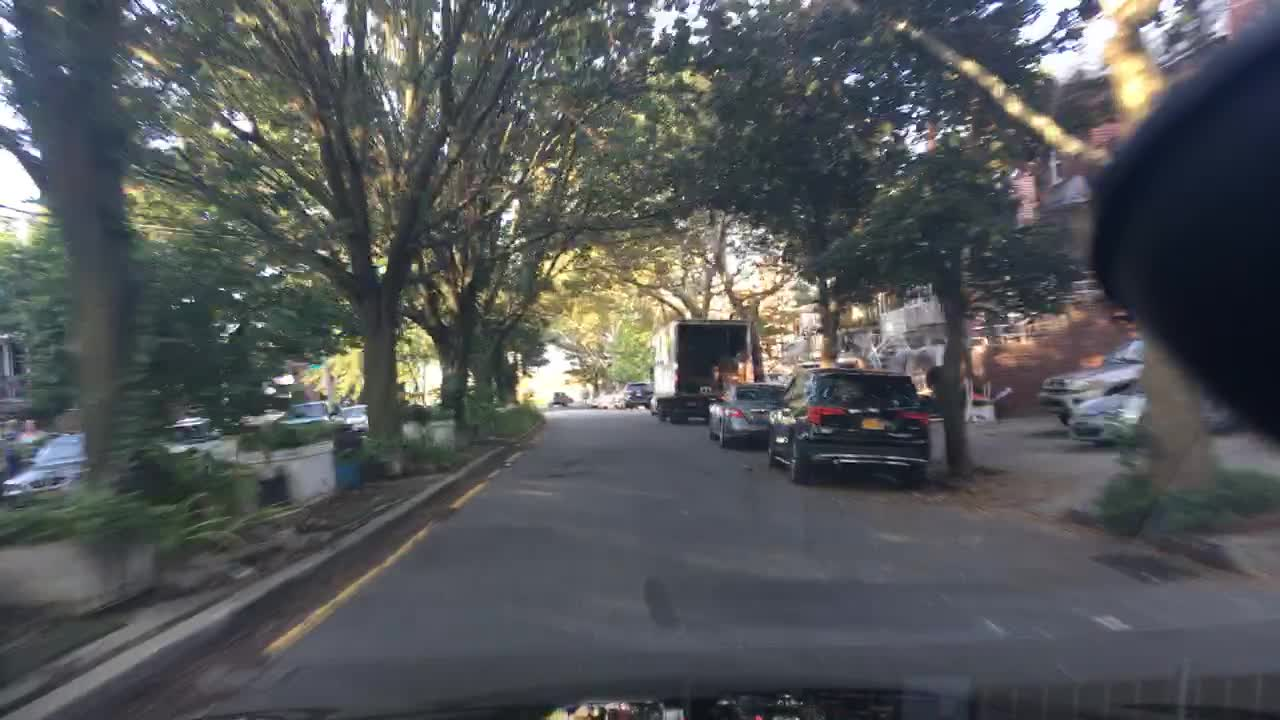car: (766, 369, 930, 485), (1066, 366, 1250, 440), (1039, 340, 1151, 422), (3, 435, 88, 510), (704, 384, 787, 447), (162, 417, 242, 462), (279, 401, 346, 431), (335, 404, 370, 430), (620, 381, 650, 410), (596, 393, 618, 410), (546, 391, 568, 406)
truck: (651, 321, 752, 422)
